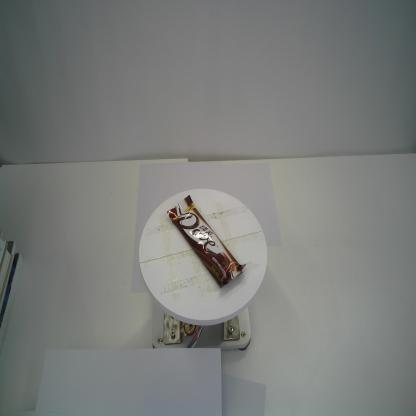Chocolate: (167, 193, 247, 290)
